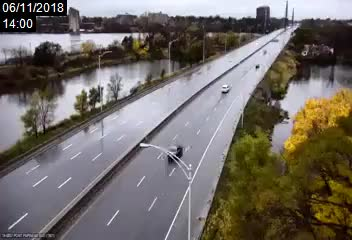personal_car: (163, 142, 184, 162), (219, 83, 231, 94)
